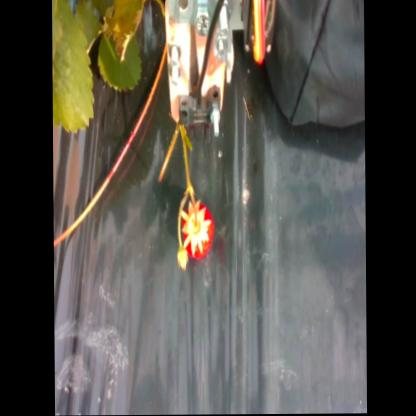ripe: (178, 200, 218, 266)
